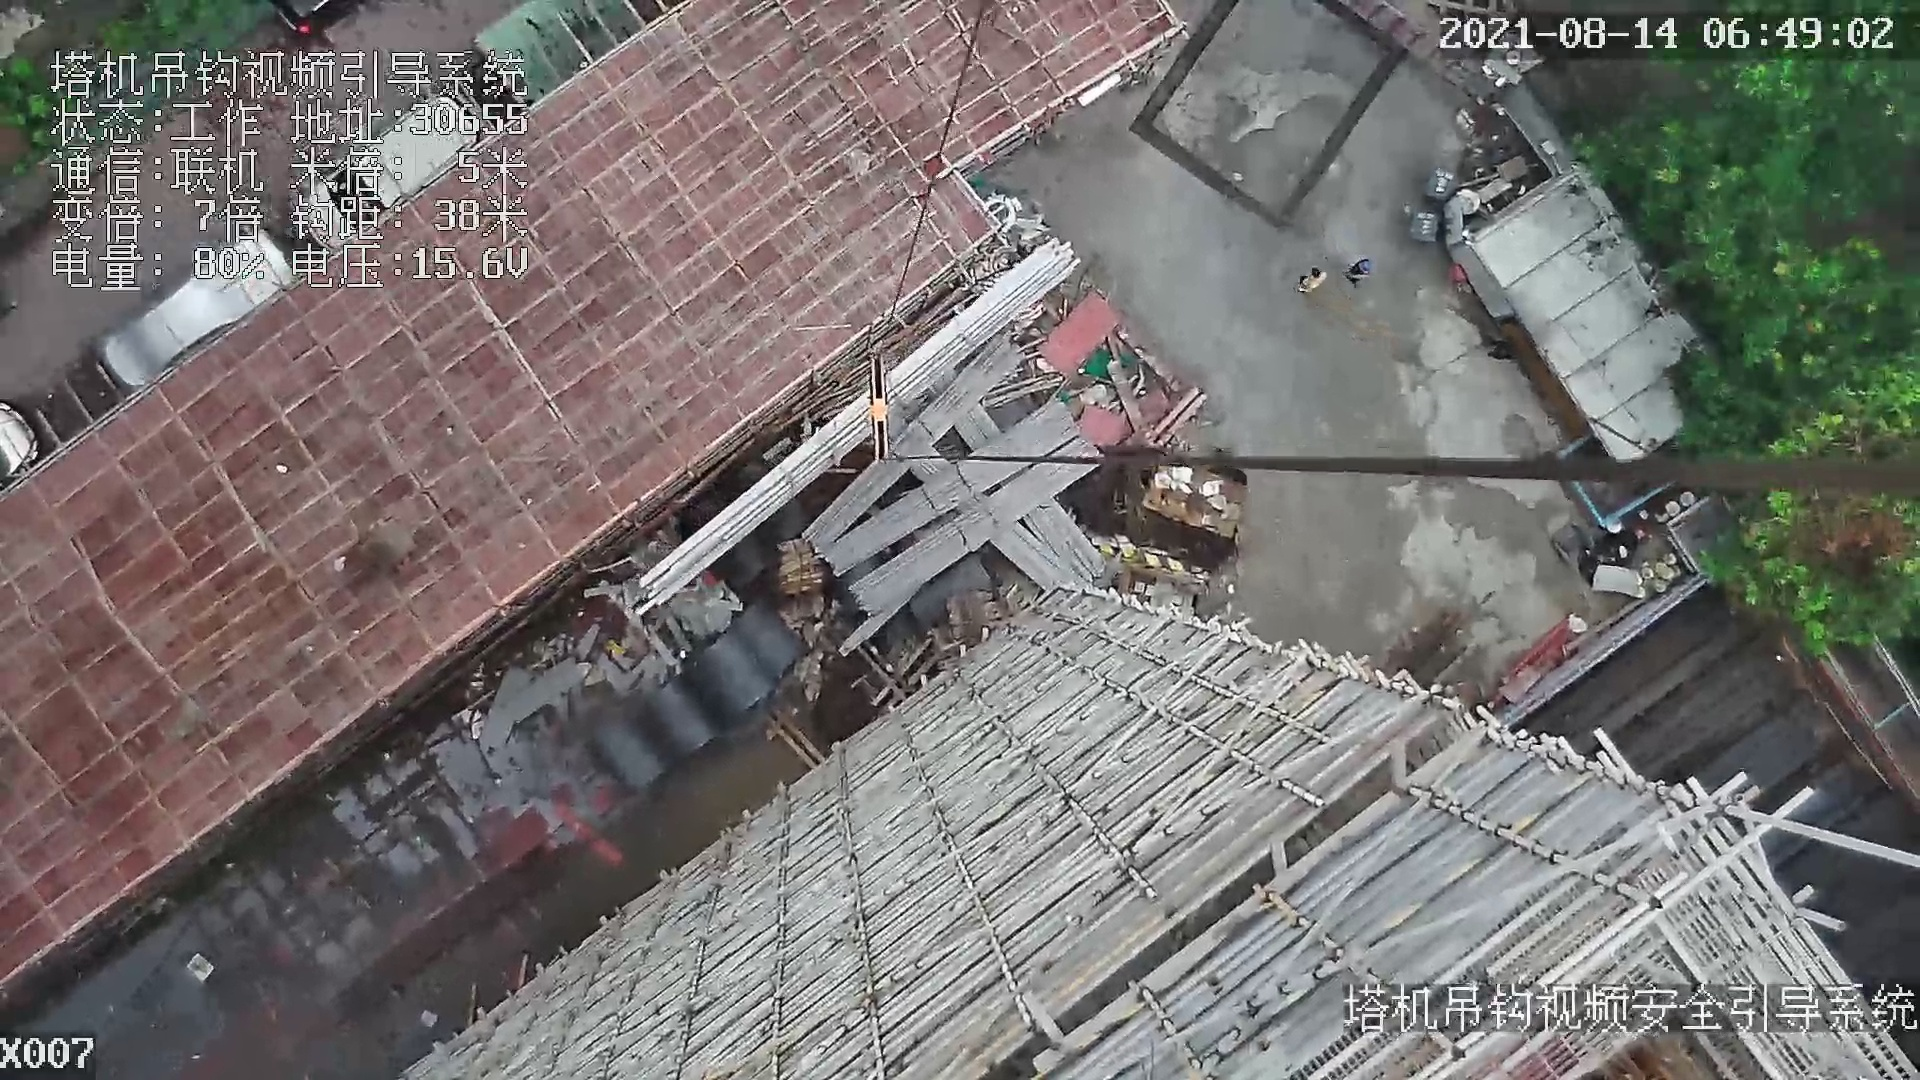helmet: (1359, 261, 1370, 272)
hook: (860, 356, 901, 467)
person: (1294, 262, 1329, 301), (1349, 253, 1377, 294)
